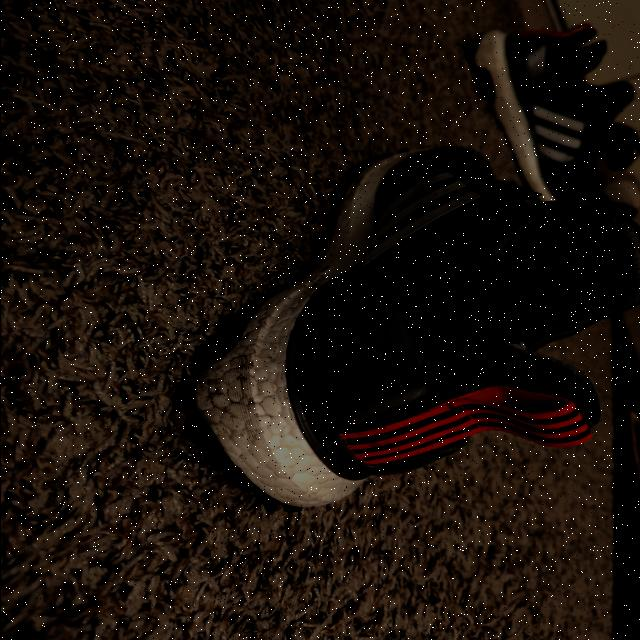black shoes: (188, 151, 488, 509)
